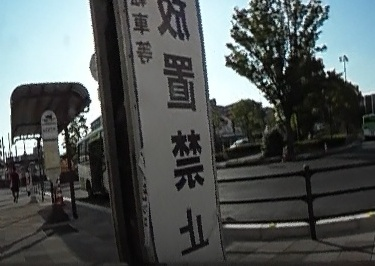person: (8, 165, 20, 202)
